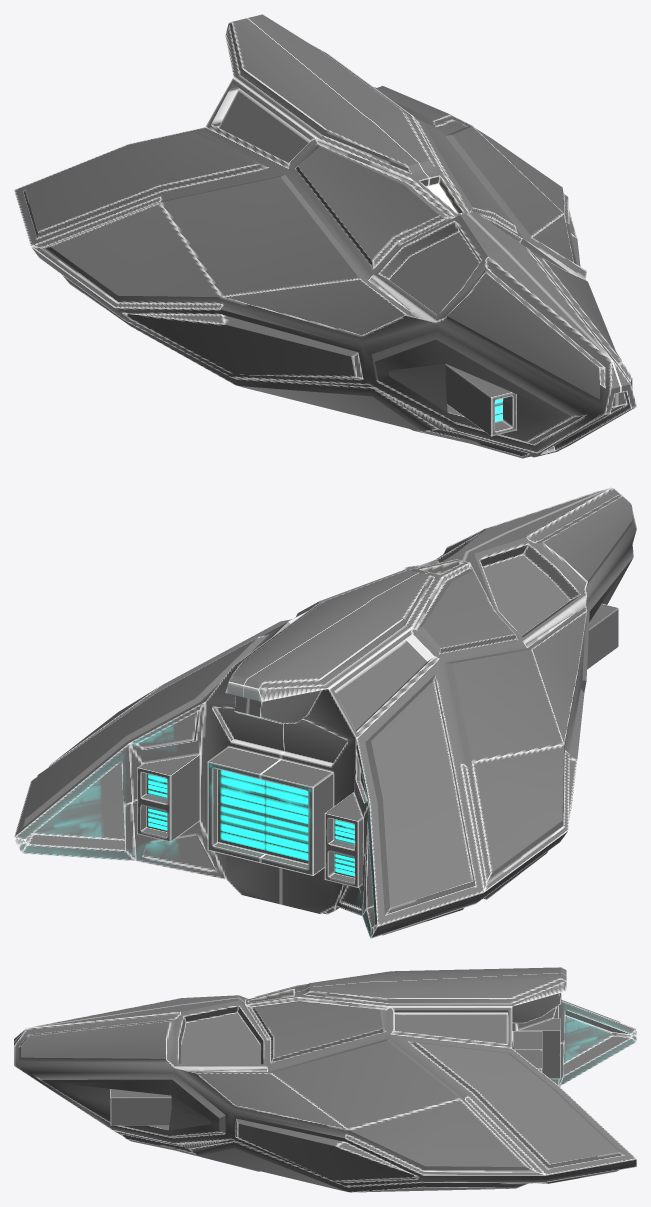
The model's file is Merc.fbx.
The picture shows the model from 3 angles, top to bottom: view 1: azimuth 30°, elevation 25°; view 2: azimuth 150°, elevation 25°; view 3: azimuth 270°, elevation 25°; orthographic projection. The views are drawn at different scales.
Visible parts, largest first — view 1: Cube; view 2: Cube; view 3: Cube.
Boxes of the visible parts, left/top/right/bottom form: Cube: left=14, top=14, right=636, bottom=458; Cube: left=14, top=487, right=636, bottom=938; Cube: left=14, top=967, right=636, bottom=1192.
Size of the model in its own units: 1939 by 1040 by 3146.
Materials: 1 (1 with a texture image).
